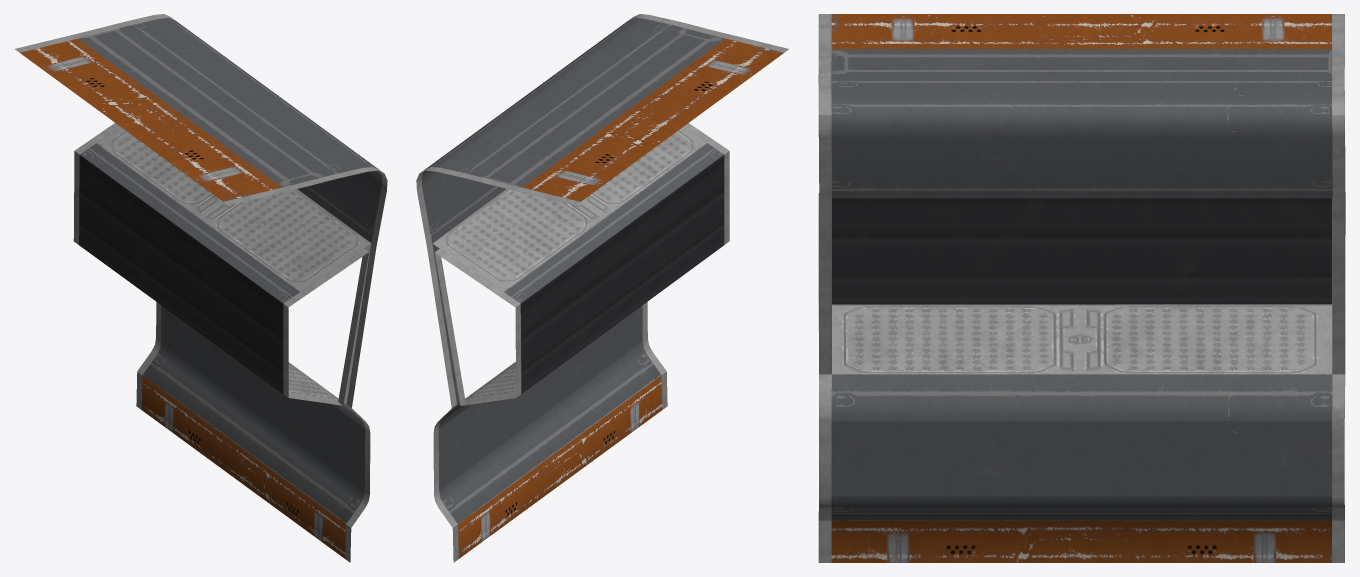
Rendered from wall_300.FBX.
3 renders of one model, left to right at view 1: azimuth 30°, elevation 25°; view 2: azimuth 150°, elevation 25°; view 3: azimuth 270°, elevation 25°, orthographic. The views are drawn at different scales.
Visible parts, largest first — view 1: Object019; view 2: Object019; view 3: Object019.
Part boxes in pixels (<box>): Object019: <box>15,14,387,562</box>; Object019: <box>416,14,788,562</box>; Object019: <box>818,14,1345,562</box>.
Size of the model in its own units: 129 by 300 by 300.
1 material, 1 textured.
